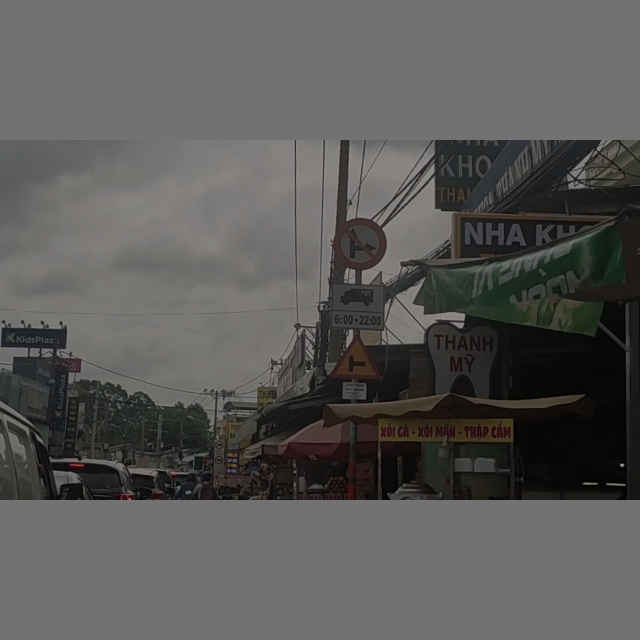P.139: (336, 219, 385, 269)
S.505a*Xe tai: (331, 285, 386, 327)
W.205b: (331, 336, 384, 377)
